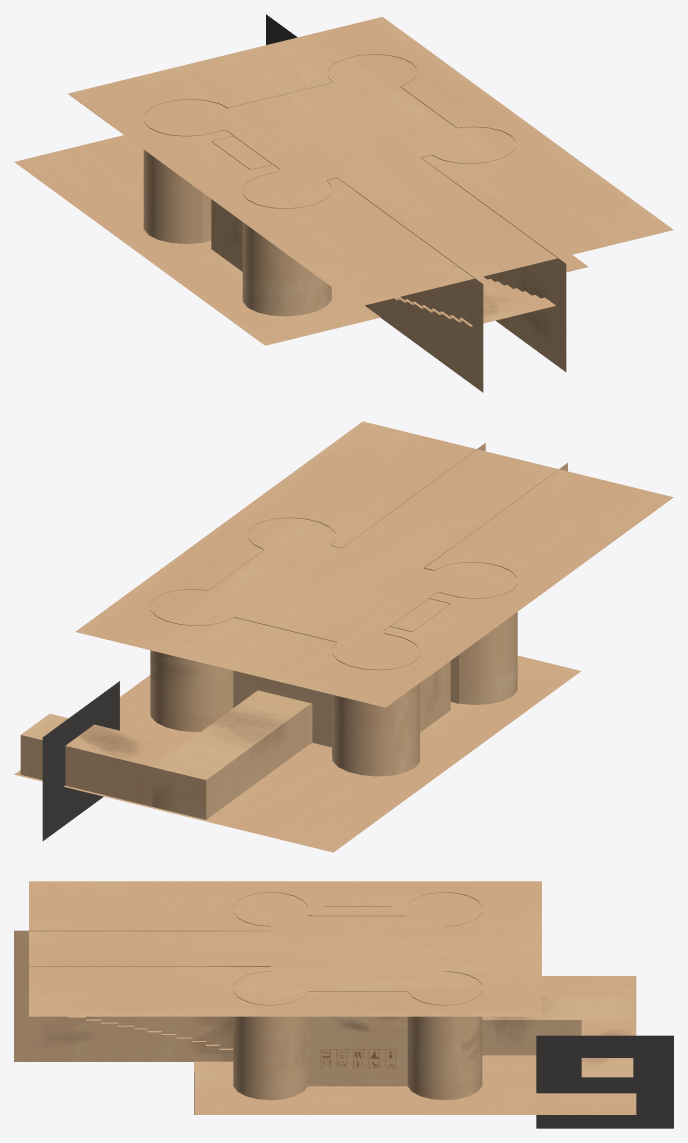
Rendered from level.fbx.
3 renders of one model, top to bottom at view 1: azimuth 30°, elevation 25°; view 2: azimuth 150°, elevation 25°; view 3: azimuth 270°, elevation 25°, orthographic. The views are drawn at different scales.
Parts seen in each view (by area): view 1: góra, ściany, dół, schody; view 2: góra, ściany, dół, koniec_levela; view 3: góra, ściany, dół, koniec_levela.
Boxes of the visible parts, x1,y1,x2,y2 form: góra: (68,17,673,306); ściany: (143,54,566,392); dół: (14,135,588,345); schody: (394,276,555,326); góra: (75,421,673,707); ściany: (20,443,567,819); dół: (14,655,580,852); koniec_levela: (42,681,119,840); góra: (29,881,541,1016); ściany: (14,892,633,1100); dół: (194,976,636,1114); koniec_levela: (536,1035,673,1128).
Bounding box in the file's own units: 903 × 1812 × 395.
